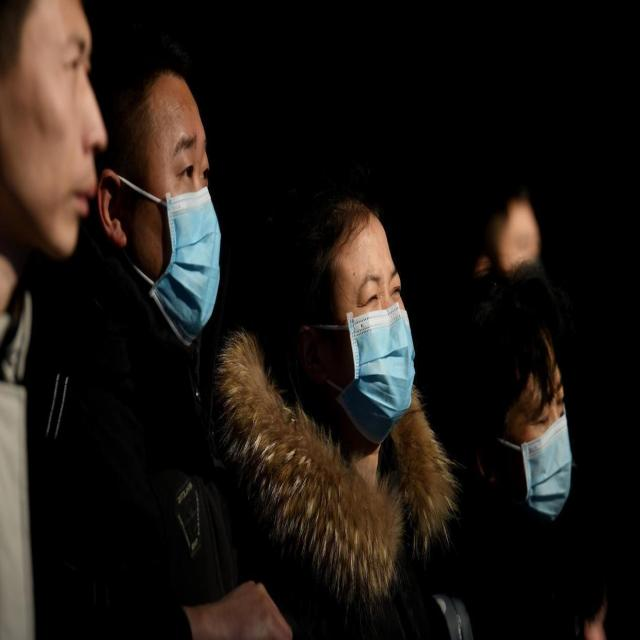face: (102, 61, 235, 360), (278, 187, 420, 459), (2, 7, 110, 285), (464, 311, 581, 536), (496, 196, 542, 279)
